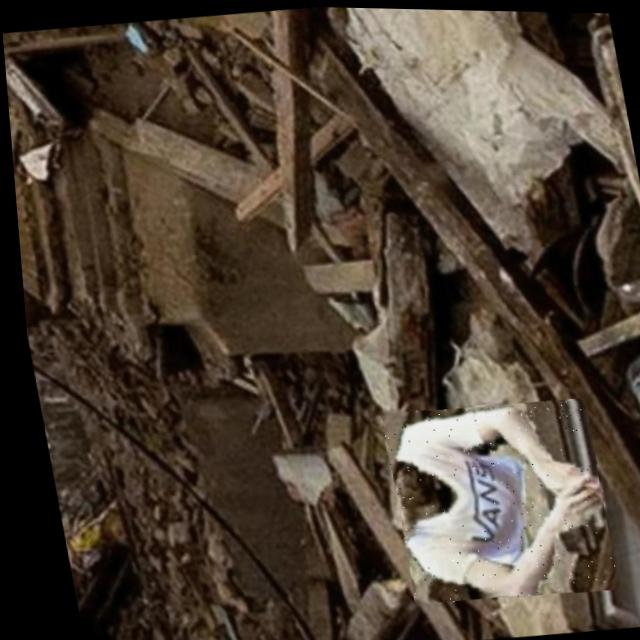Person in Rubble: (372, 389, 611, 606)
